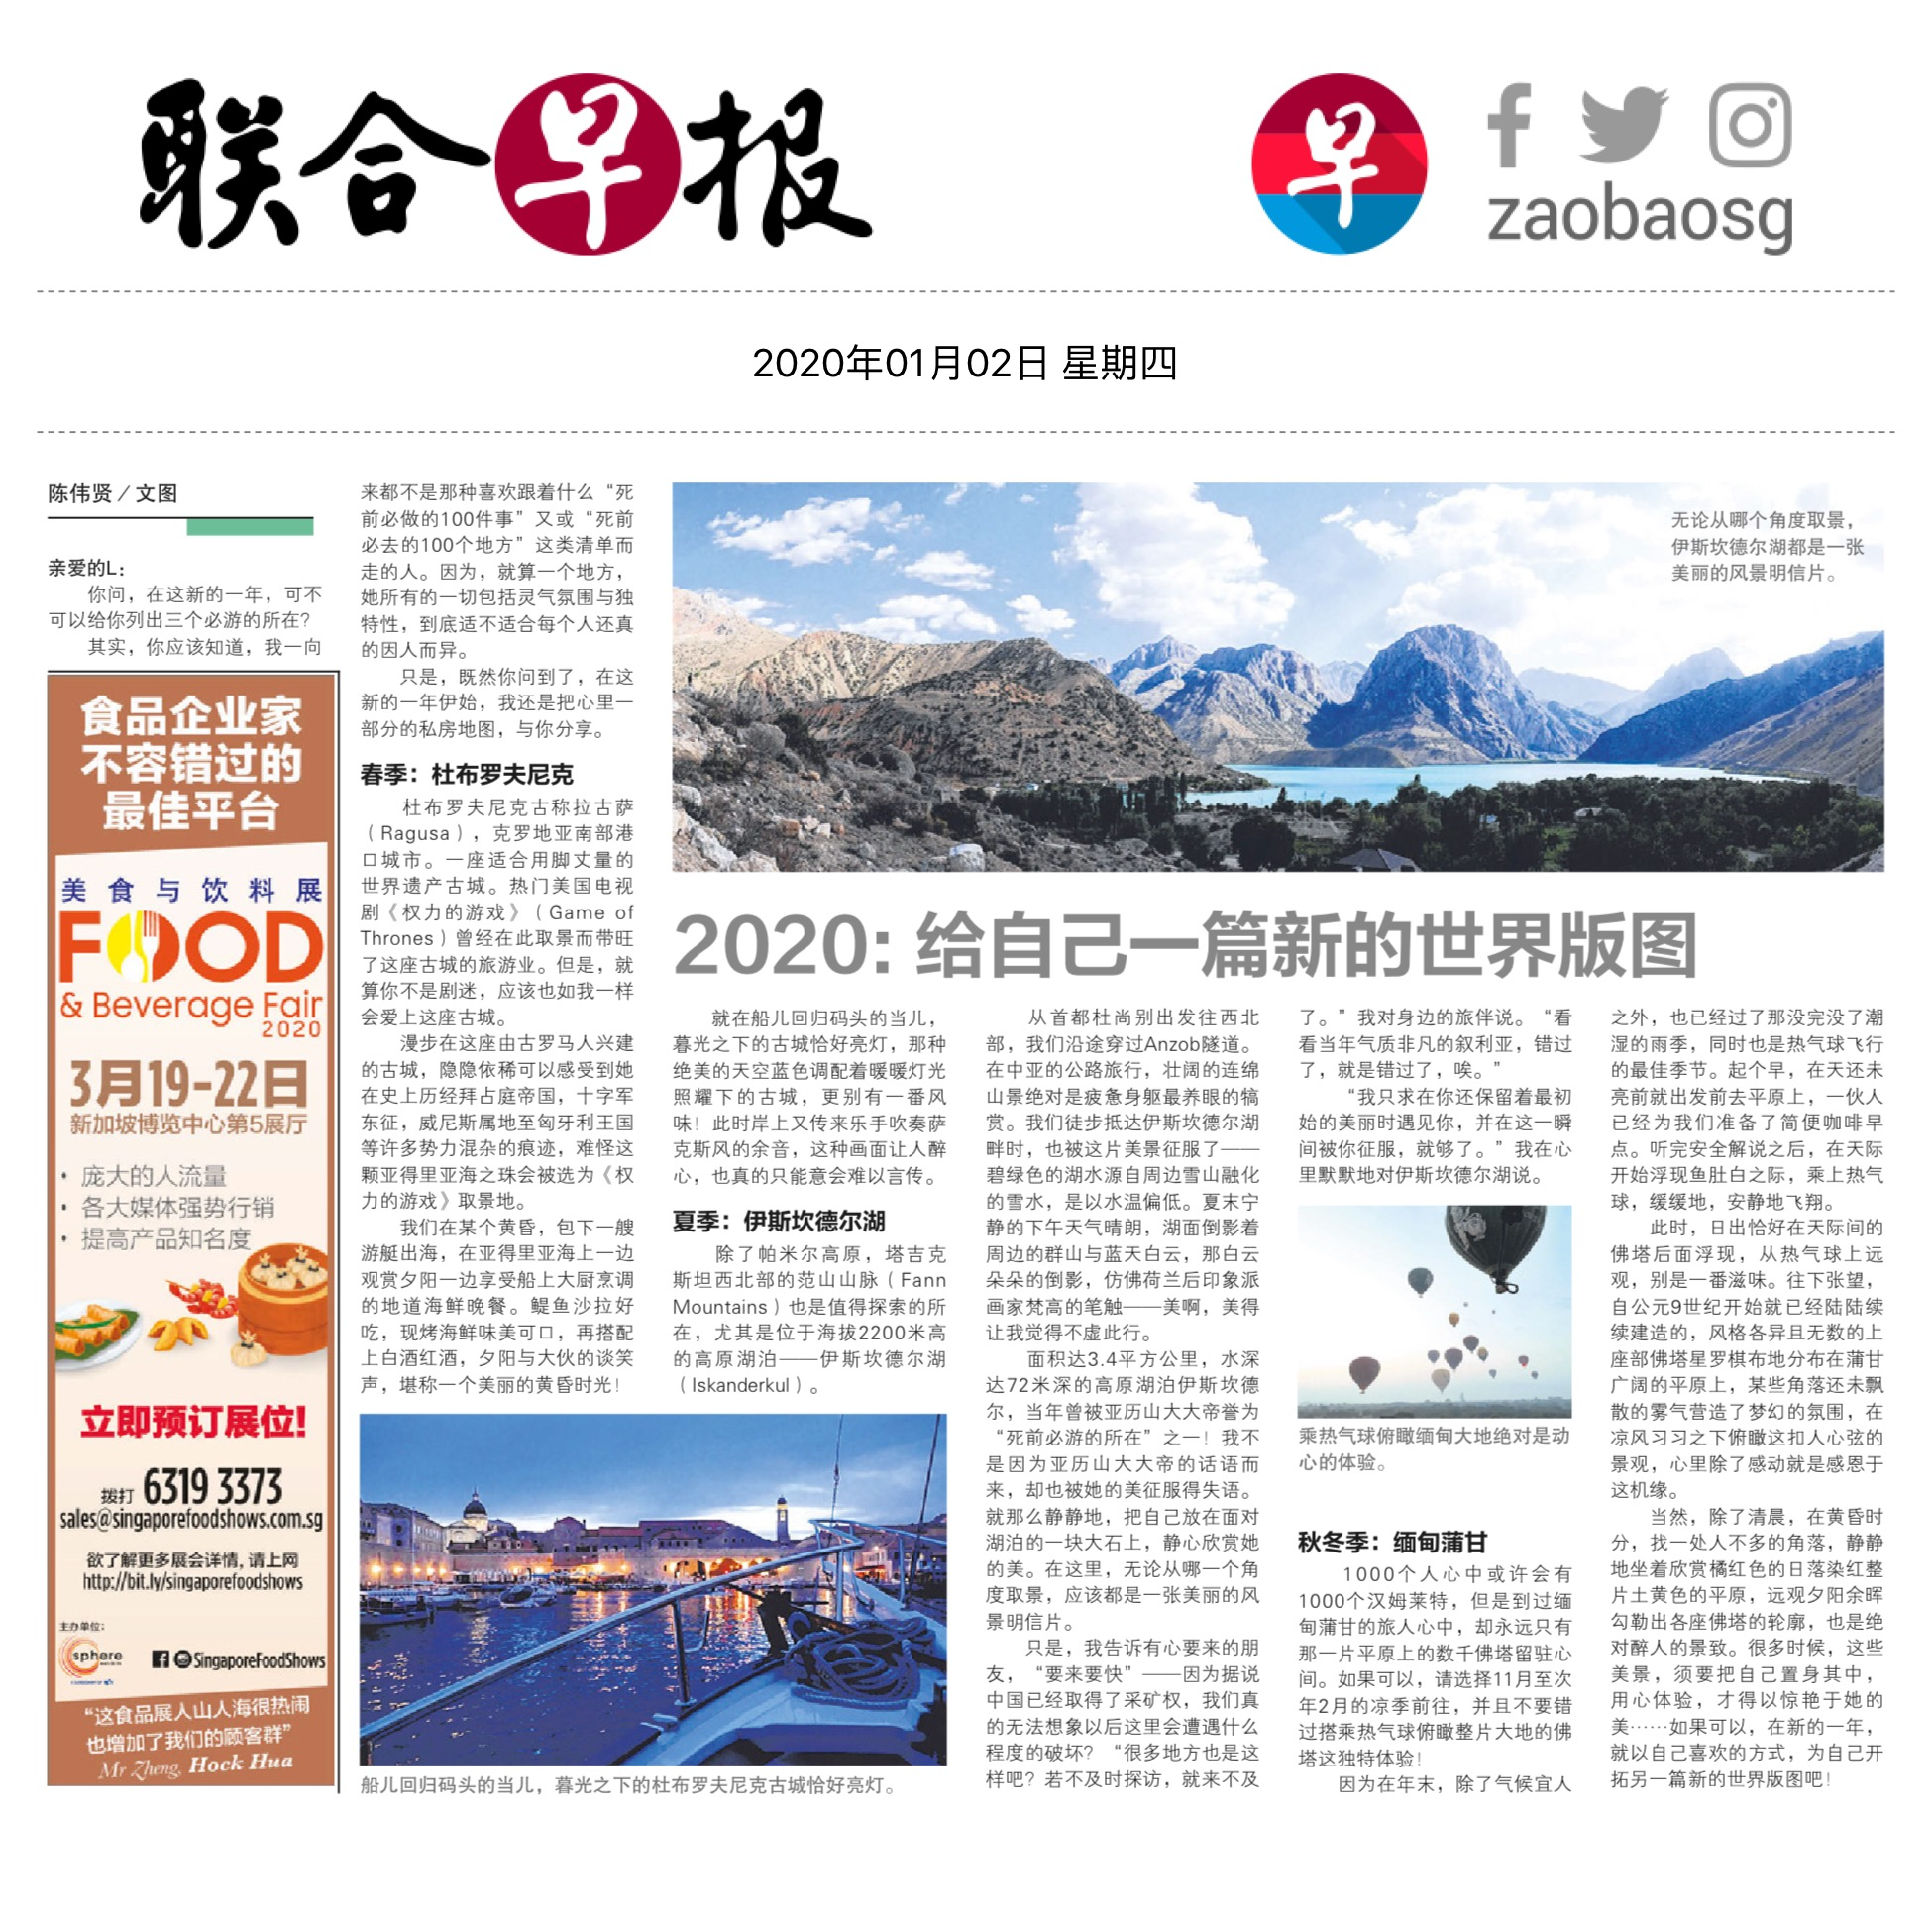heading: (665, 898, 1708, 986)
